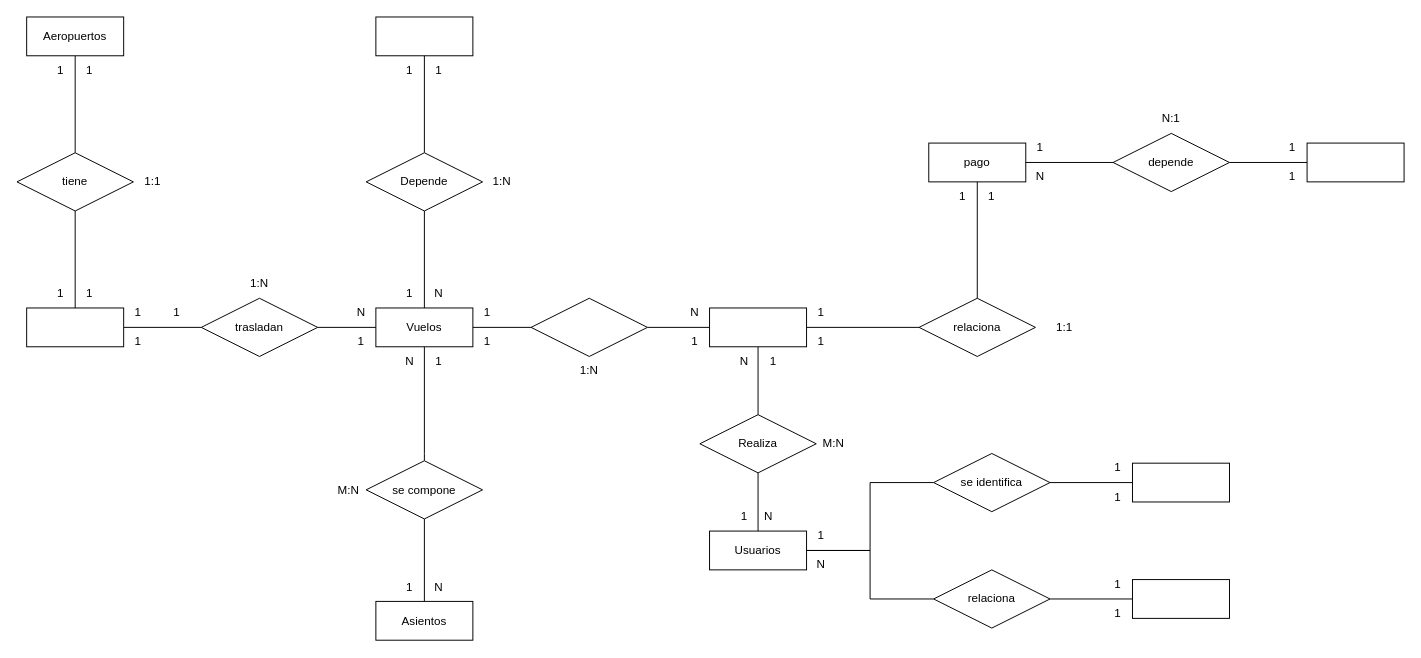
Image size: 1421x658. Some labels were removed from this diagram. Here are the shapes that lost their labels. From the top down, the centre of each, then its label:
At point (424, 36): "Aviones".
At point (1355, 162): "Metodo de pago".
At point (75, 327): "Ciudades".
At point (588, 326): "Relacionada".
At point (758, 327): "Reservas".
At point (1180, 482): "generos".
At point (1180, 598): "tipo de documento".
